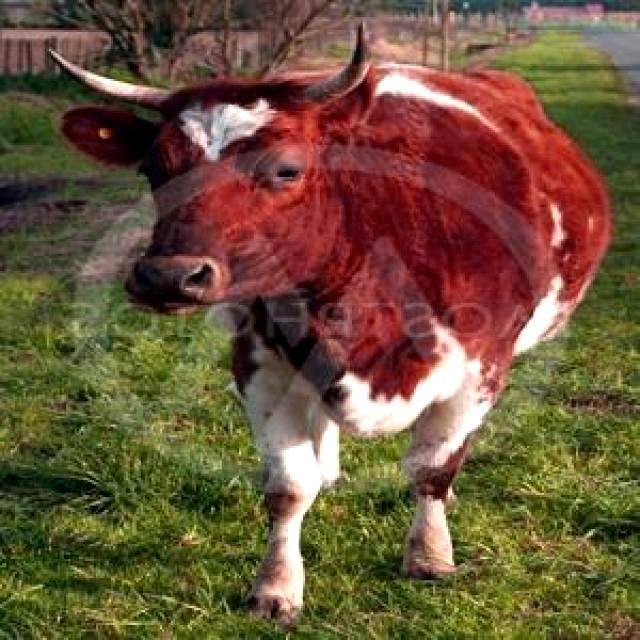COW: (62, 35, 611, 619)
